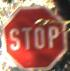Stop sign: (0, 0, 69, 70)
